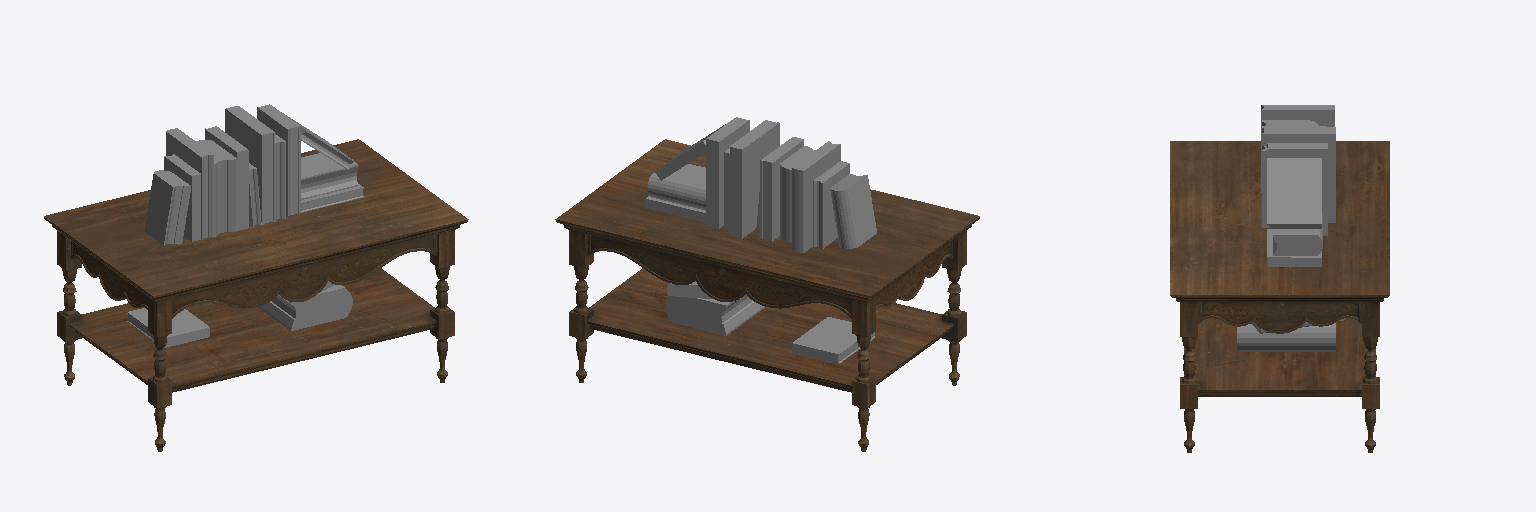
3 renders of one model, left to right at view 1: azimuth 30°, elevation 25°; view 2: azimuth 150°, elevation 25°; view 3: azimuth 270°, elevation 25°, orthographic.
Visible parts, largest first — view 1: SM_Booktable_01_Combo; view 2: SM_Booktable_01_Combo; view 3: SM_Booktable_01_Combo.
Part boxes in pixels (bbox=[...]): SM_Booktable_01_Combo: bbox=[44, 104, 468, 451]; SM_Booktable_01_Combo: bbox=[555, 117, 979, 451]; SM_Booktable_01_Combo: bbox=[1170, 105, 1389, 452].
Size of the model in its own units: 125 by 96.82 by 75.47.
Materials: 2 (1 with a texture image).